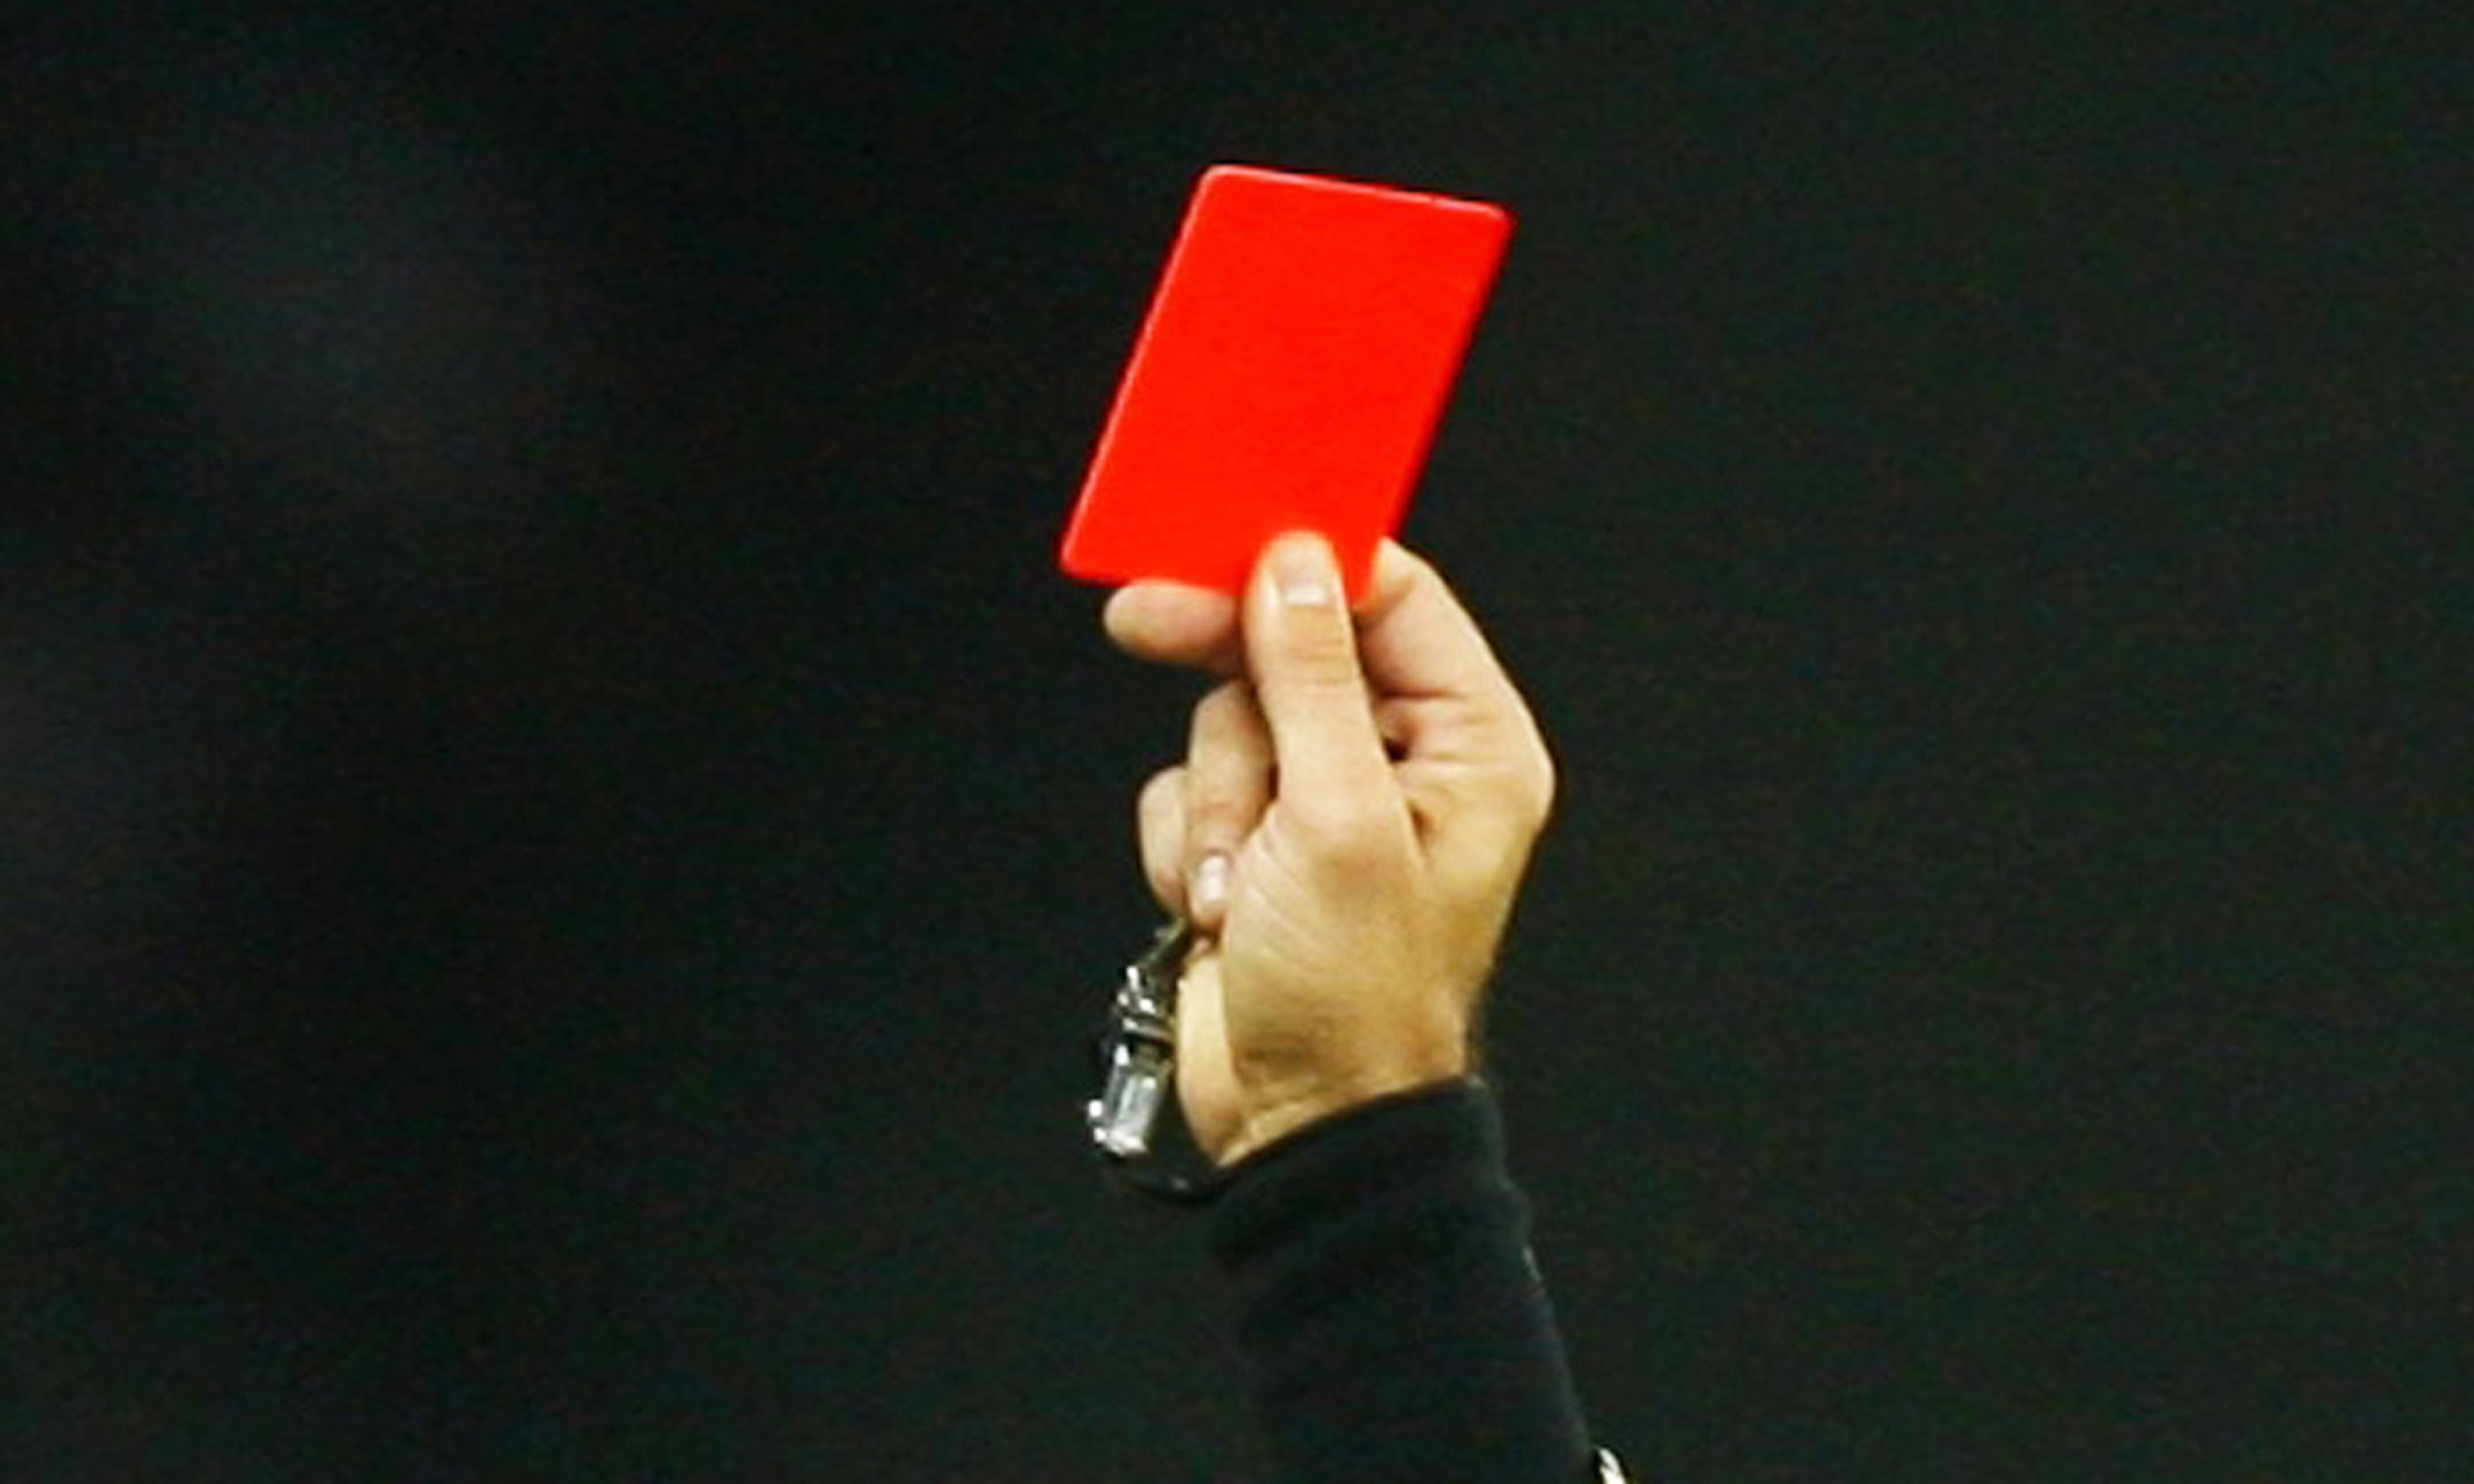red_card: (1050, 78, 1596, 1170)
